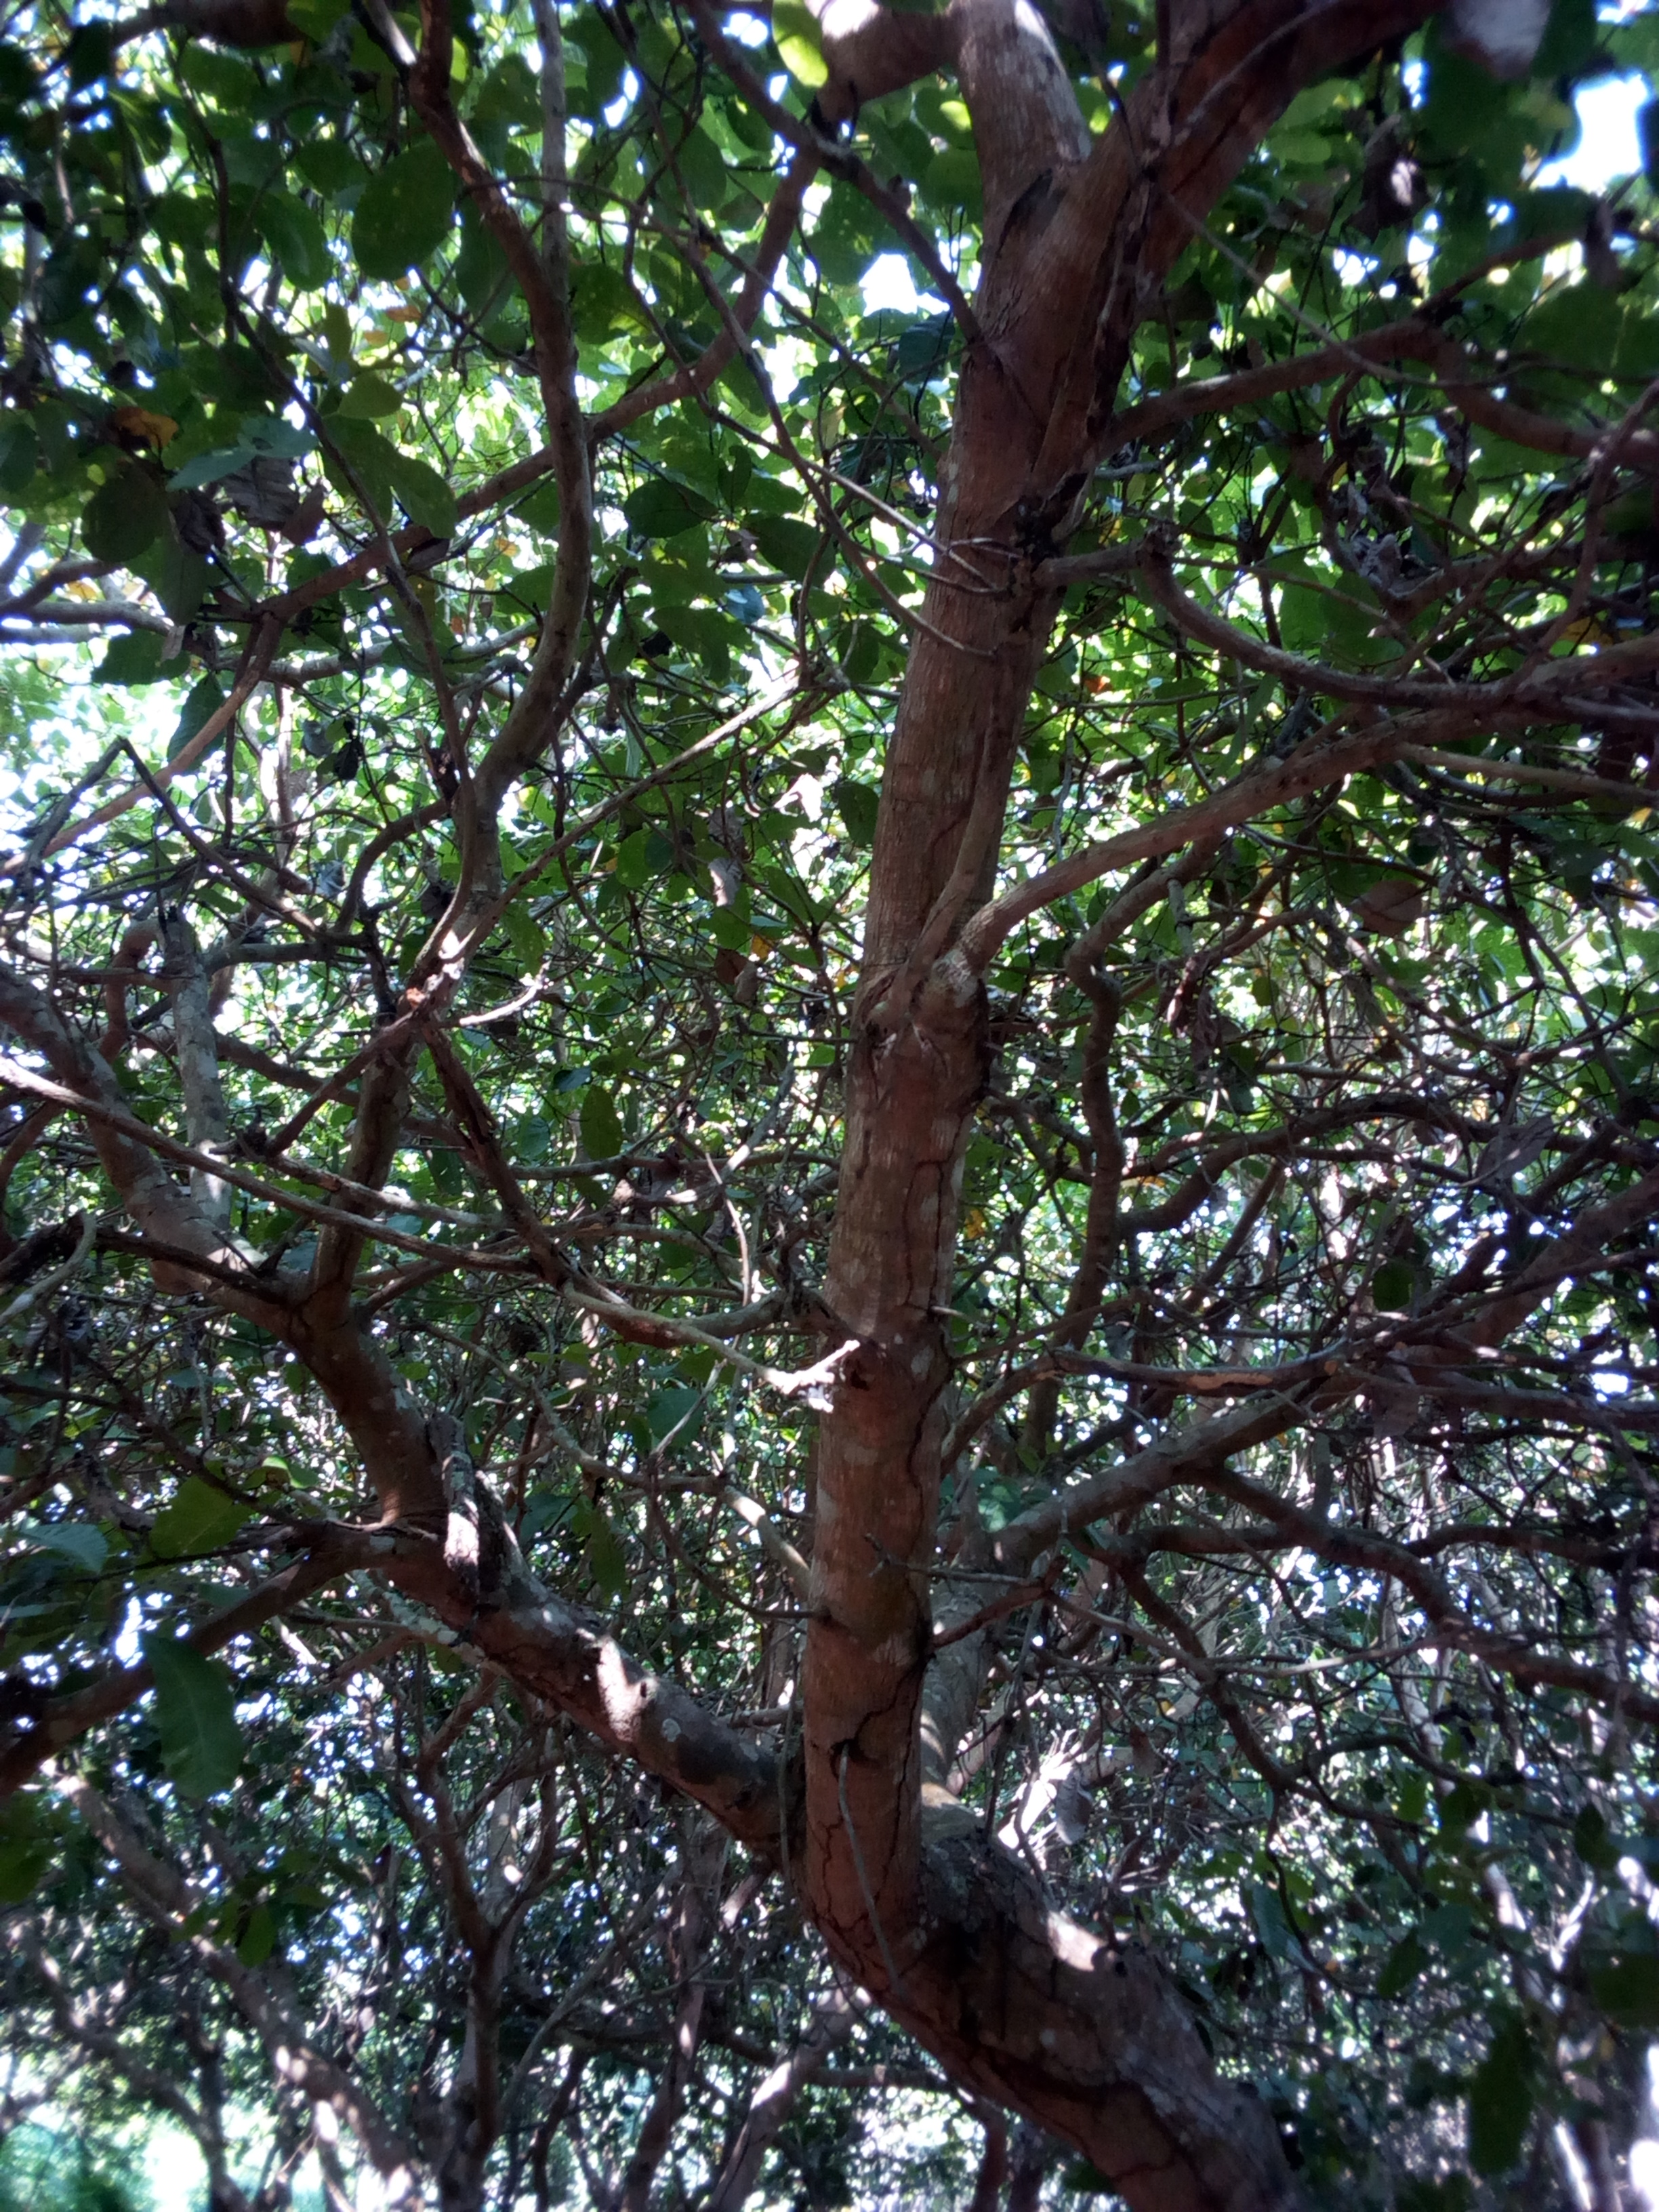Termites: (1046, 2031, 1213, 2210)
